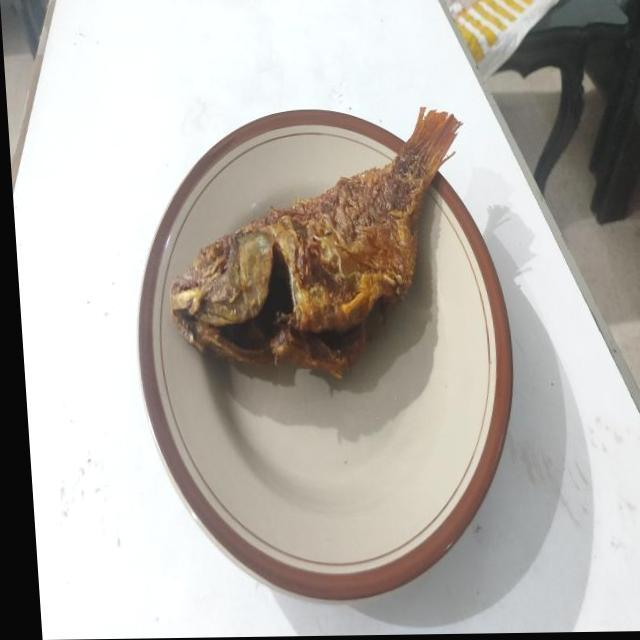ikan_mujair: (170, 108, 461, 378)
